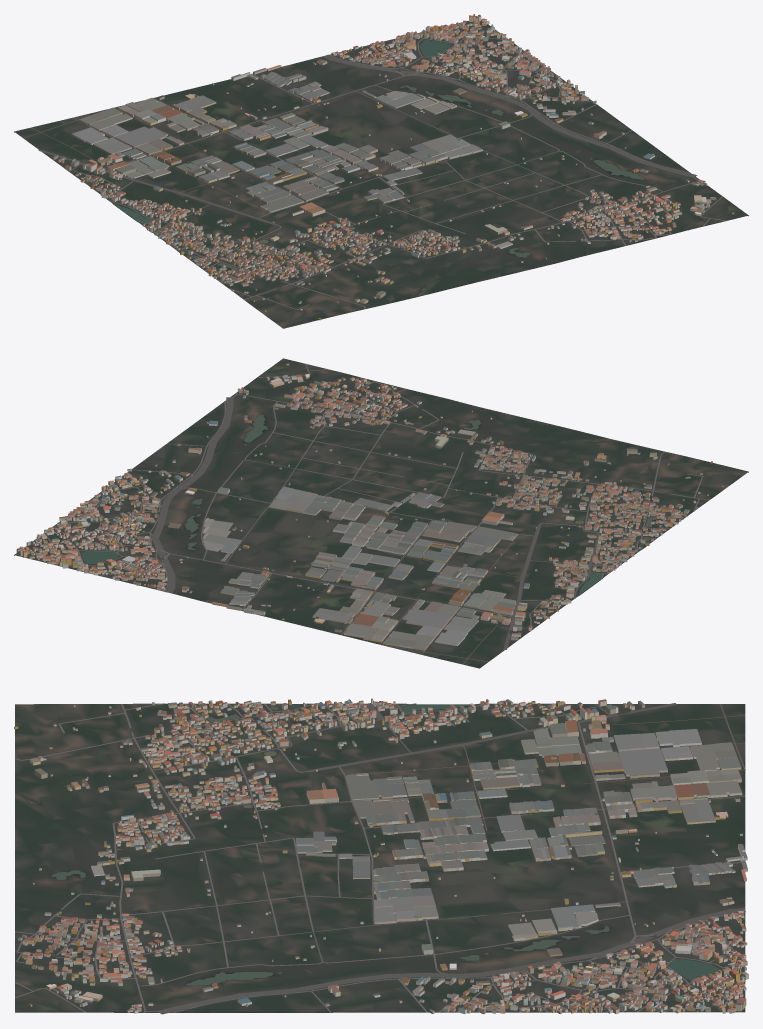
The picture shows the model from 3 angles, top to bottom: view 1: azimuth 30°, elevation 25°; view 2: azimuth 150°, elevation 25°; view 3: azimuth 270°, elevation 25°; orthographic projection. The views are drawn at different scales.
Visible parts, largest first — view 1: ground, buildings, roads, water; view 2: ground, buildings, roads, water; view 3: ground, buildings, roads, water.
Boxes of the visible parts, x1,y1,x2,y2 form: ground: (14, 19, 748, 328); buildings: (52, 14, 734, 320); roads: (23, 32, 726, 309); water: (115, 40, 643, 270); ground: (14, 358, 748, 668); buildings: (16, 363, 723, 650); roads: (43, 363, 709, 664); water: (81, 415, 656, 594); ground: (15, 703, 745, 1012); buildings: (14, 698, 748, 1014); roads: (15, 703, 745, 1014); water: (51, 704, 720, 985).
Bounding box in the file's own units: 1414 × 22.61 × 1411.
